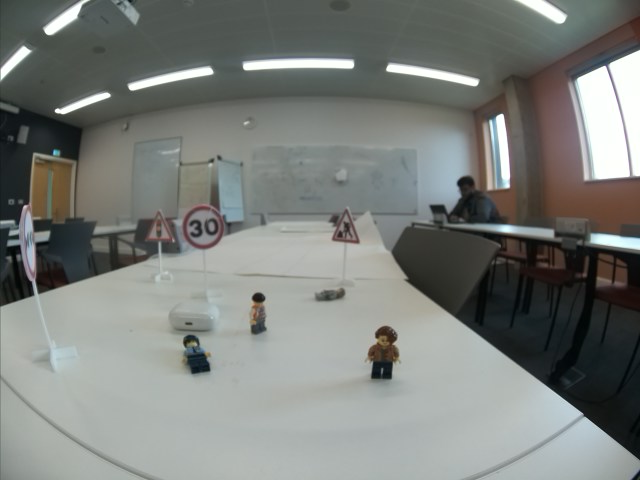30mph: (182, 204, 224, 250)
6ft6: (17, 206, 38, 280)
Lego Man: (364, 326, 402, 382), (180, 332, 212, 374), (249, 292, 269, 336), (314, 286, 347, 301)
Roadworks: (330, 207, 362, 243)
Traffic lights: (144, 209, 176, 241)
